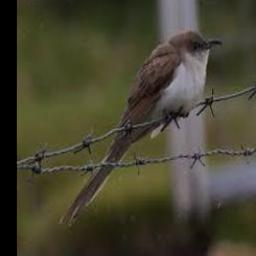Cuckoo: (59, 30, 223, 224)
